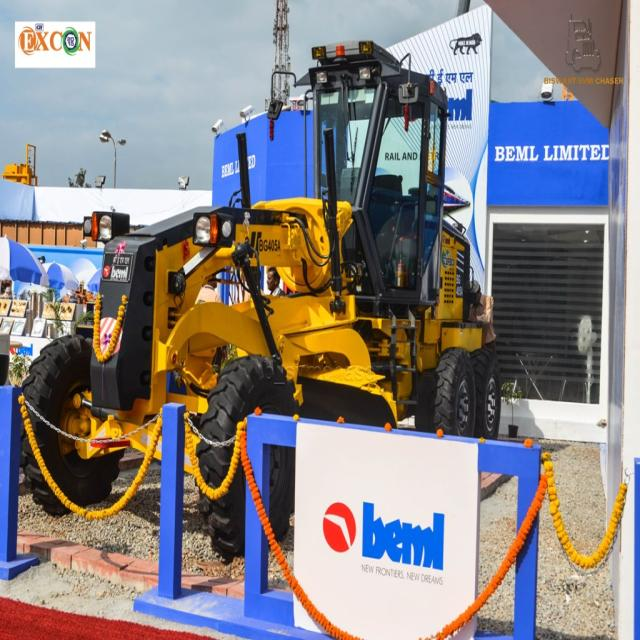buldozerpayloadergrader: (31, 43, 514, 452)
